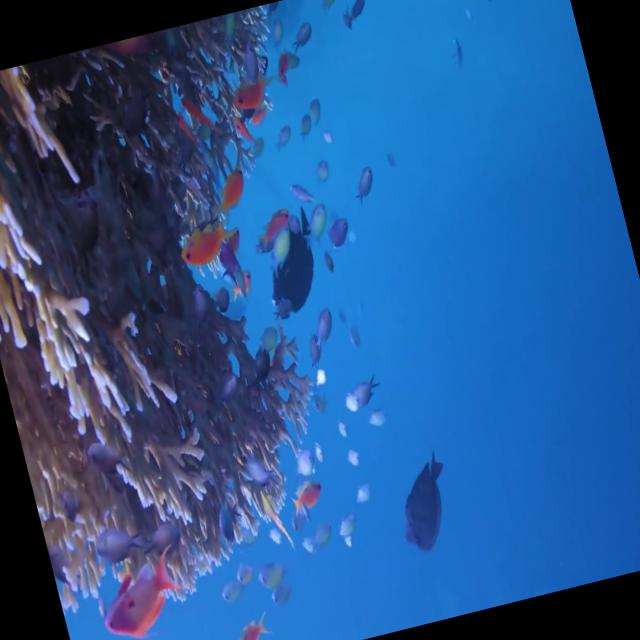fish: (374, 435, 470, 570), (245, 214, 342, 340), (86, 537, 204, 640), (167, 210, 234, 278), (224, 64, 280, 134), (284, 464, 337, 530), (207, 168, 262, 228), (334, 154, 382, 212), (219, 599, 283, 640), (348, 370, 393, 416)
